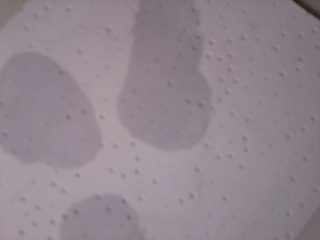Water_detected: (127, 12, 187, 122), (4, 76, 81, 157), (76, 201, 131, 240)
